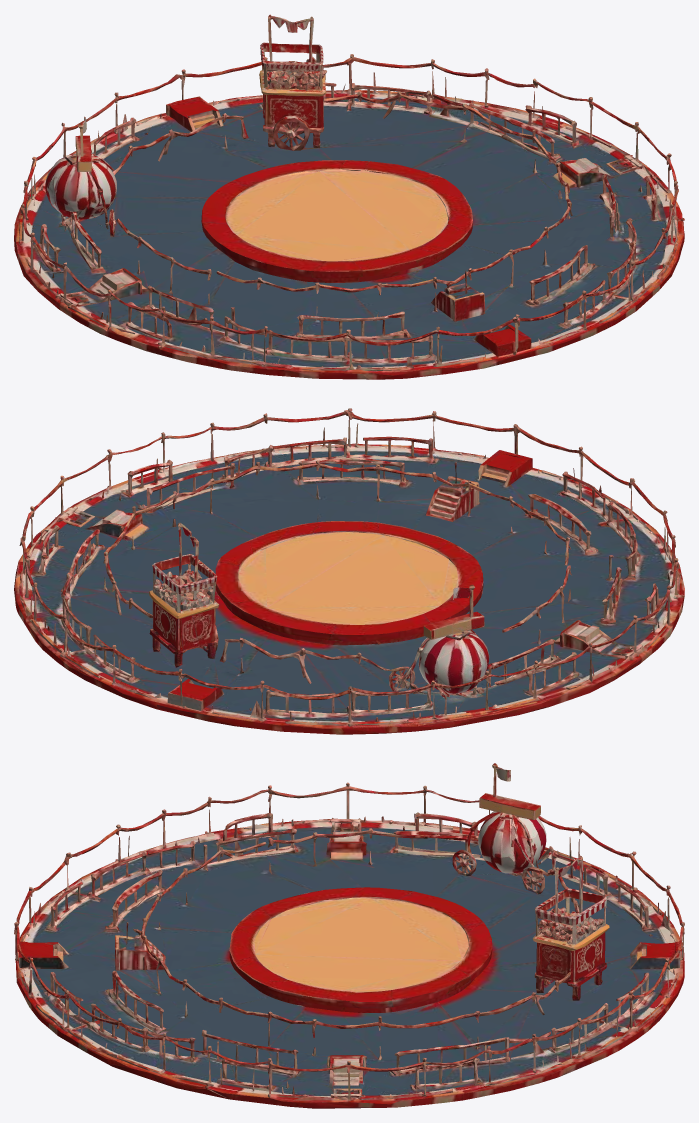
Rendered from ilha-trampolim.glb.
3 renders of one model, top to bottom at view 1: azimuth 30°, elevation 25°; view 2: azimuth 150°, elevation 25°; view 3: azimuth 270°, elevation 25°, orthographic.
Size of the model in its own units: 1.9 by 0.4113 by 1.9.
1 material, 1 textured.
